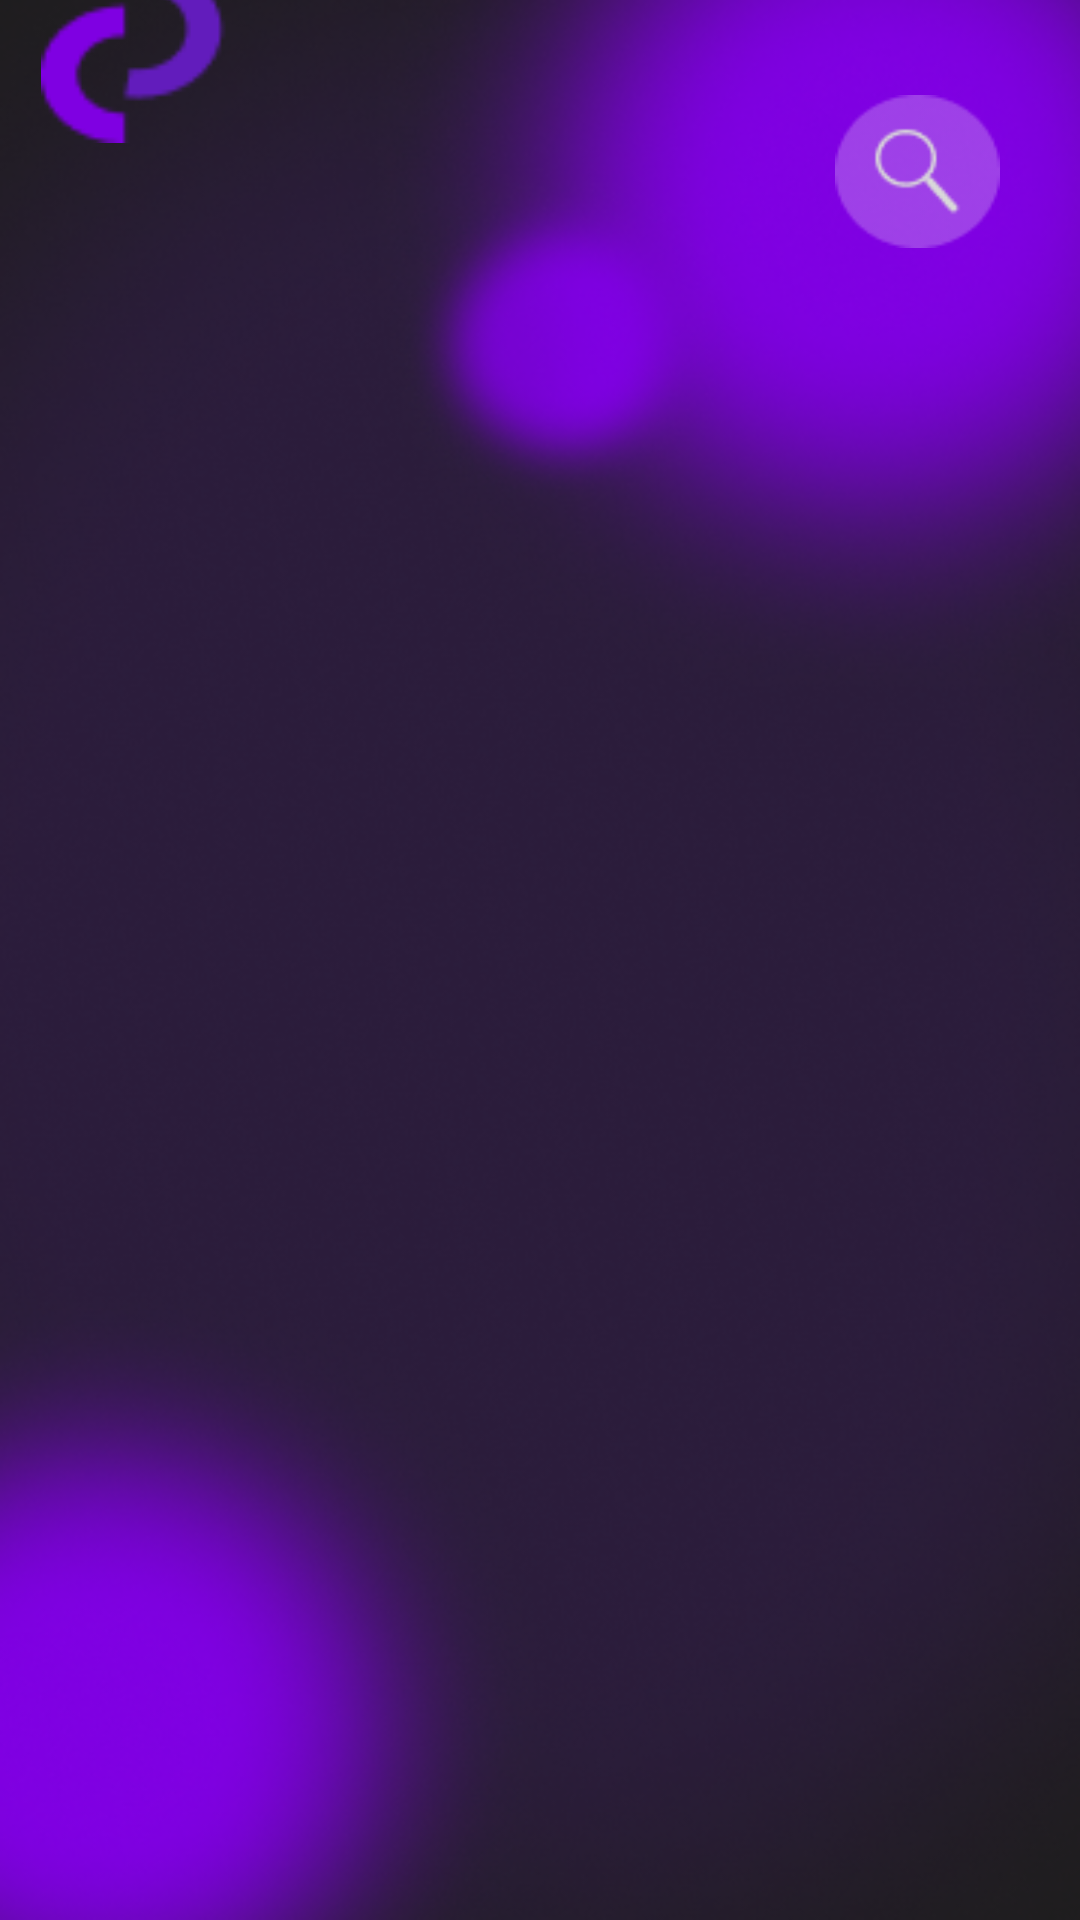

Icons on this 1080×1920 Android screen, each with its box as region(x1, y1, x2, y2):
searchicon: region(835, 95, 1000, 248)
